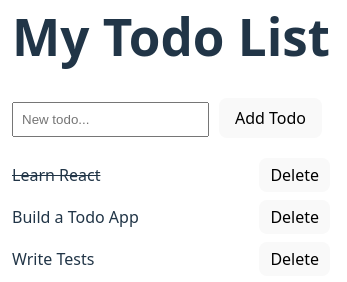
TodoList Component › allows a user to delete a todo item
Expected: the text "Build a Todo App" is shown, [12,206,139,230]
// Simulate click on the delete button
Click the button "Delete" next to "Build a Todo App" at (295, 218), box [259,200,330,234]
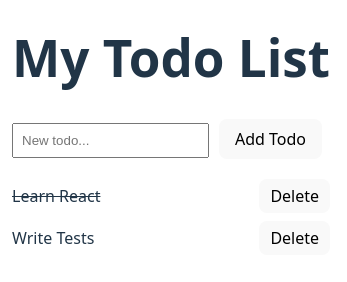
Expected: the text "Build a Todo App" is gone
